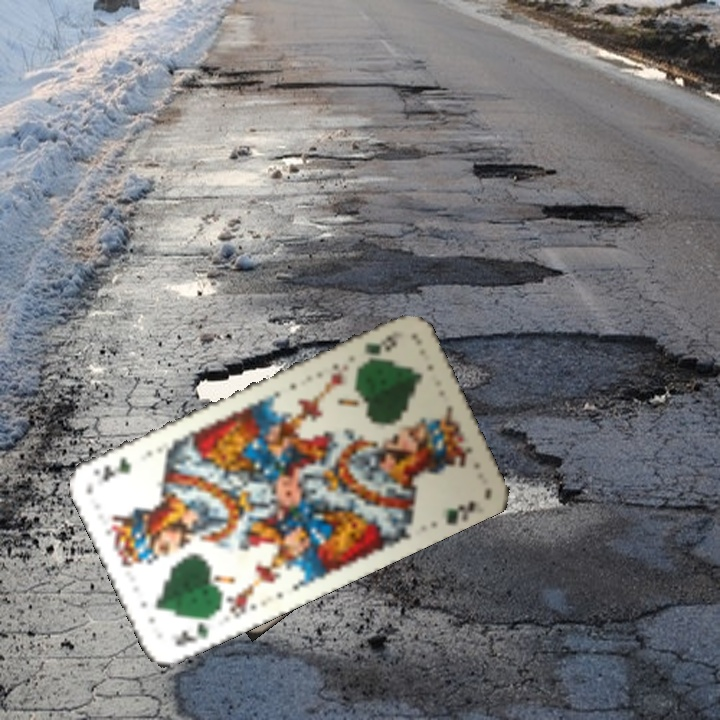GK: (171, 608, 218, 650), (359, 327, 405, 358)
